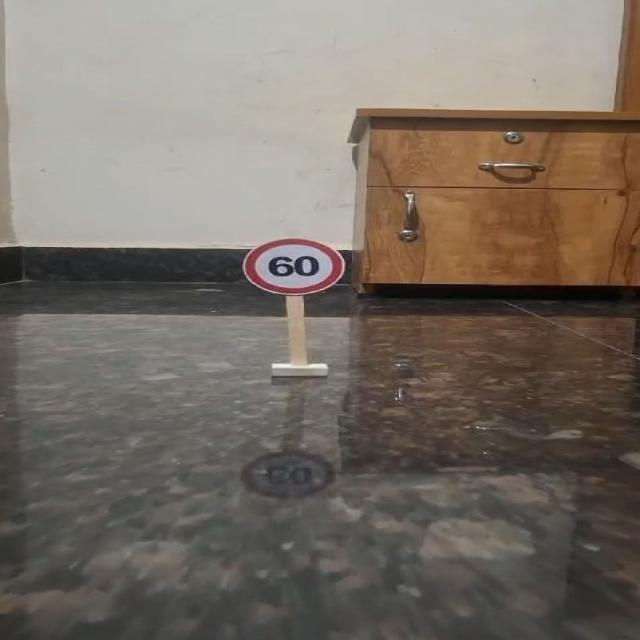Speed60: (241, 236, 348, 297)
